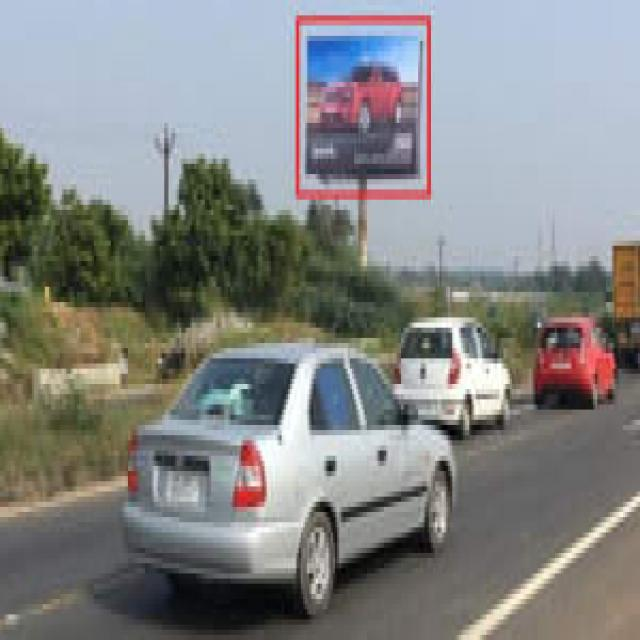Werbetafel frei: (297, 17, 429, 199)
